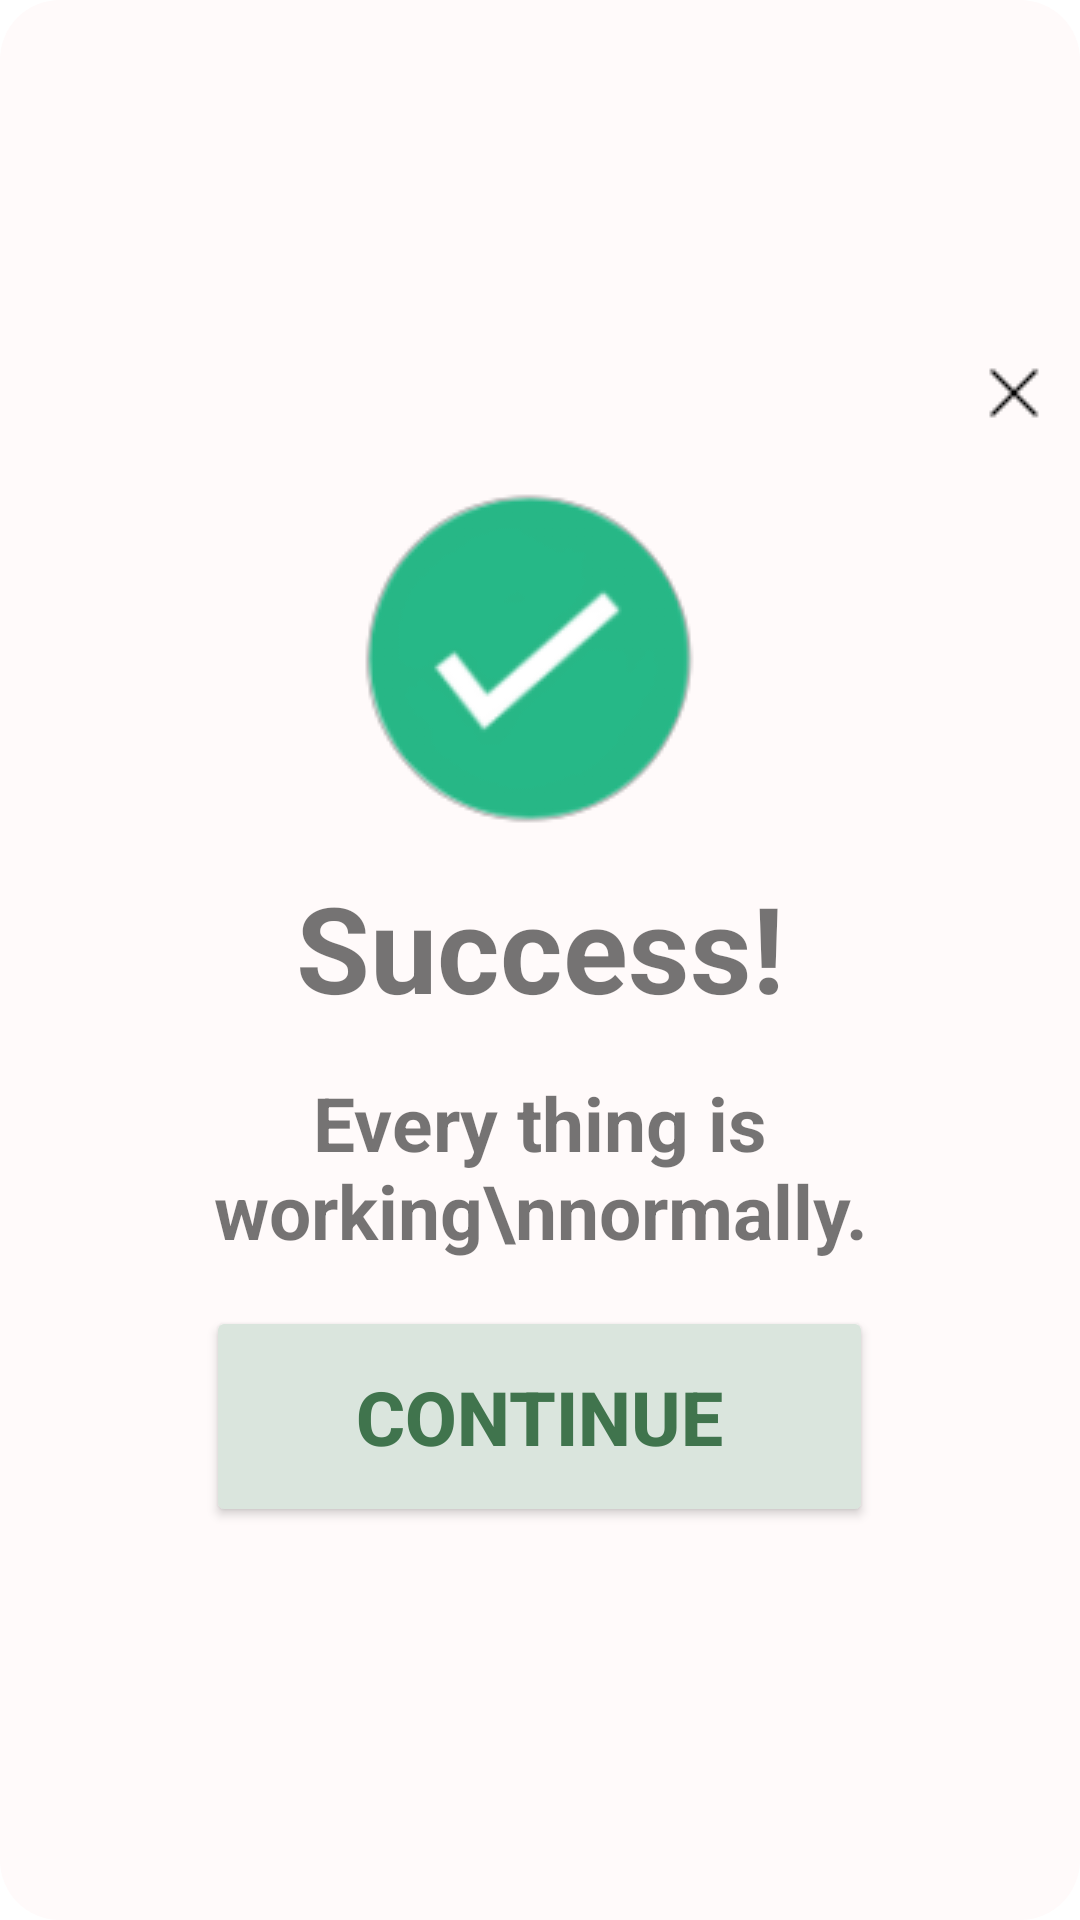

Icons on this 1080 x 1920 Android screen, each with its box as {"x1": x1, "y1": y1, "x2": x2, "y2": y2}:
exit: {"x1": 989, "y1": 368, "x2": 1039, "y2": 418}
